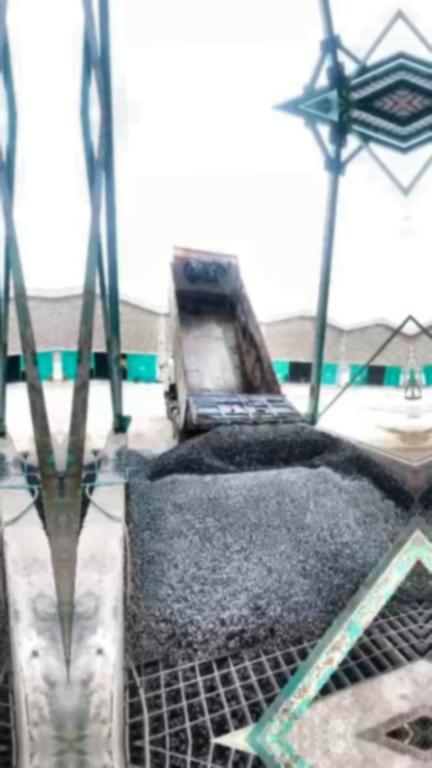gravel: (110, 426, 416, 663), (385, 561, 420, 614), (82, 460, 95, 484)
sand: (388, 429, 415, 462)
